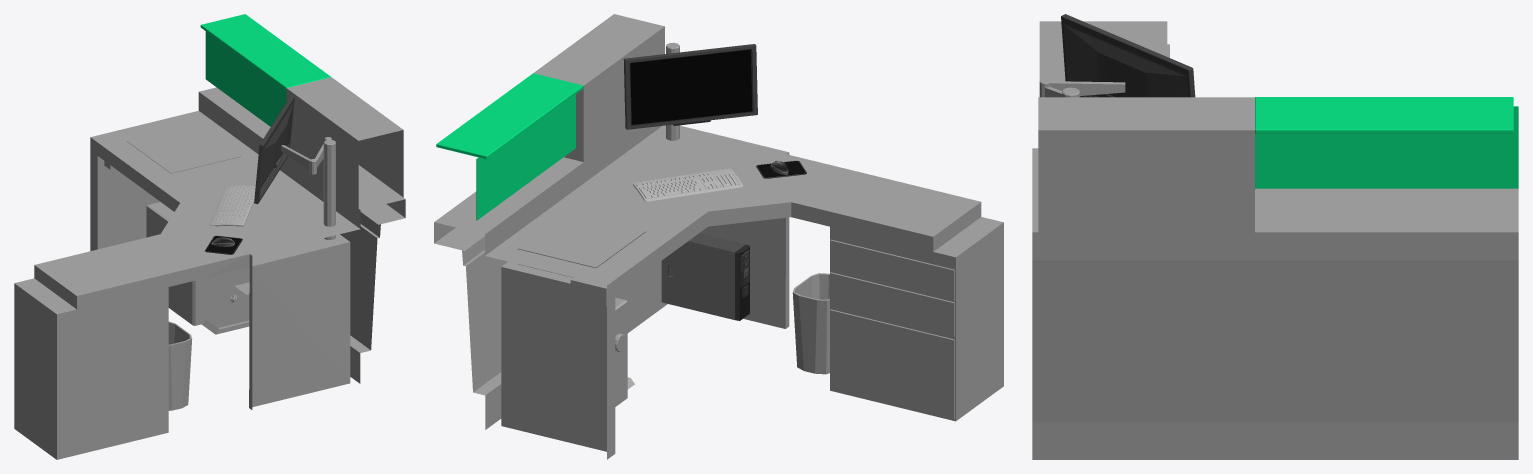
Rendered from PuestoTrabajo.fbx.
3 views of the same model, side by side, from view 1: azimuth 30°, elevation 25°; view 2: azimuth 150°, elevation 25°; view 3: azimuth 270°, elevation 25° (orthographic). The views are drawn at different scales.
Visible parts, largest first — view 1: puesto, __MonitorLG03, __KeyGoodBoard1; view 2: puesto, __MonitorLG03, __SystemBlock01, __KeyGoodBoard1; view 3: puesto, __MonitorLG03.
Part boxes in pixels (x1,y1,x2,y2): puesto: (14,14,405,459); __MonitorLG03: (254,95,294,204); __KeyGoodBoard1: (209,185,255,226); puesto: (434,14,1003,459); __MonitorLG03: (623,44,757,129); __SystemBlock01: (661,233,749,320); __KeyGoodBoard1: (633,168,743,201); puesto: (1032,21,1518,459); __MonitorLG03: (1061,14,1195,97).
Size of the model in its own units: 2.36 by 1.67 by 1.91.
